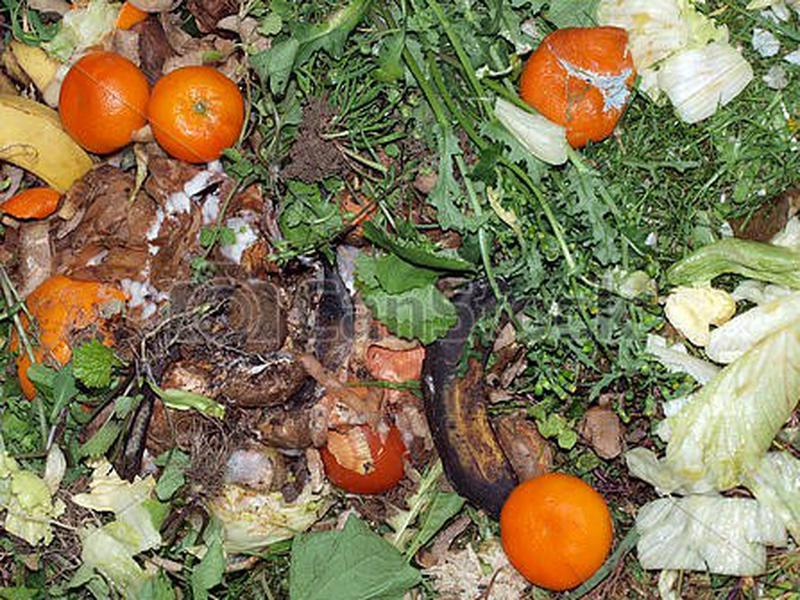vegetation: (4, 4, 453, 600), (427, 1, 800, 590)
